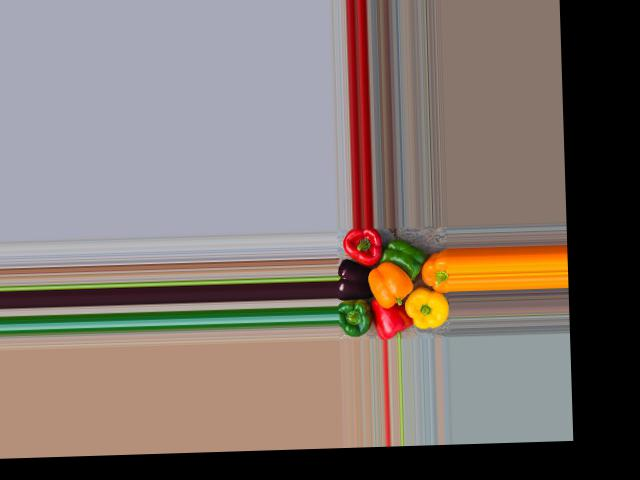bell_pepper: (411, 239, 448, 292)
